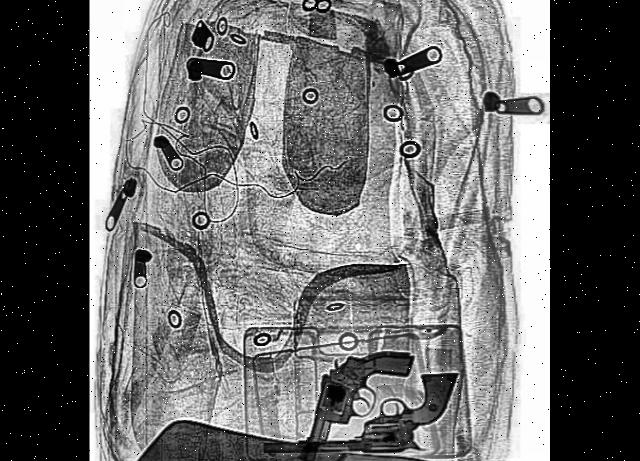Gun: (302, 309, 417, 461), (264, 372, 461, 457)
Knife: (126, 411, 480, 461)
